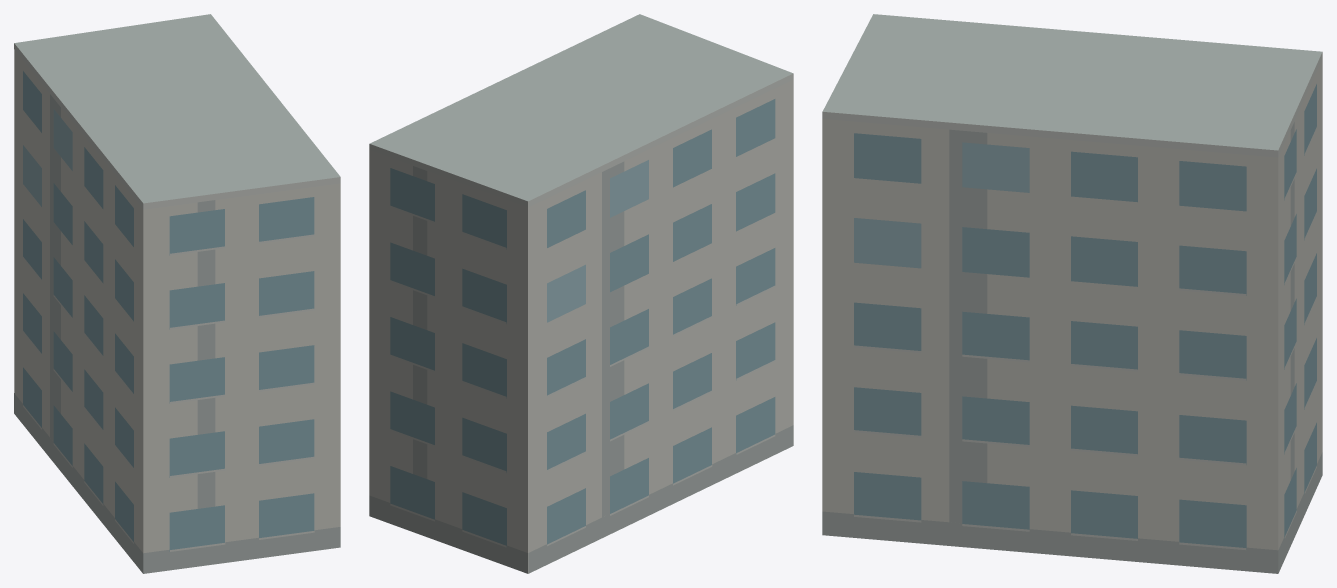
The model's file is survey-upis-33002222.glb.
3 views of the same model, side by side, from view 1: azimuth 30°, elevation 25°; view 2: azimuth 150°, elevation 25°; view 3: azimuth 270°, elevation 25° (orthographic). The views are drawn at different scales.
Parts seen in each view (by area): view 1: survey-upis-33002222.tmp; view 2: survey-upis-33002222.tmp; view 3: survey-upis-33002222.tmp.
Part boxes in pixels (x1,y1,x2,y2): survey-upis-33002222.tmp: (14, 14, 340, 573); survey-upis-33002222.tmp: (369, 14, 793, 573); survey-upis-33002222.tmp: (822, 14, 1322, 573).
Bounding box in the file's own units: 10.03 × 14.5 × 15.53.
